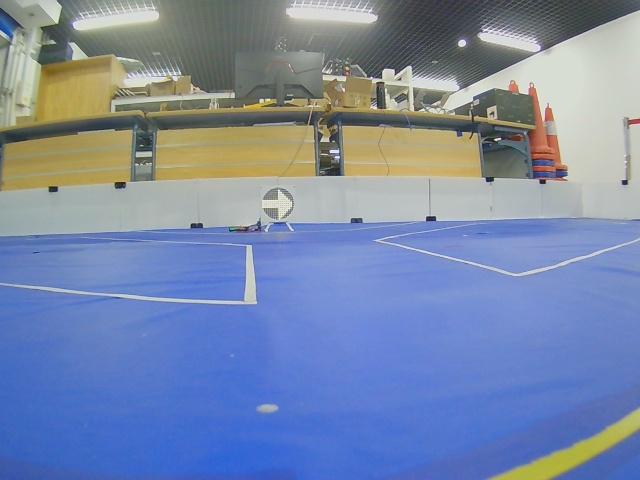right_yellow: (262, 187, 294, 221)
